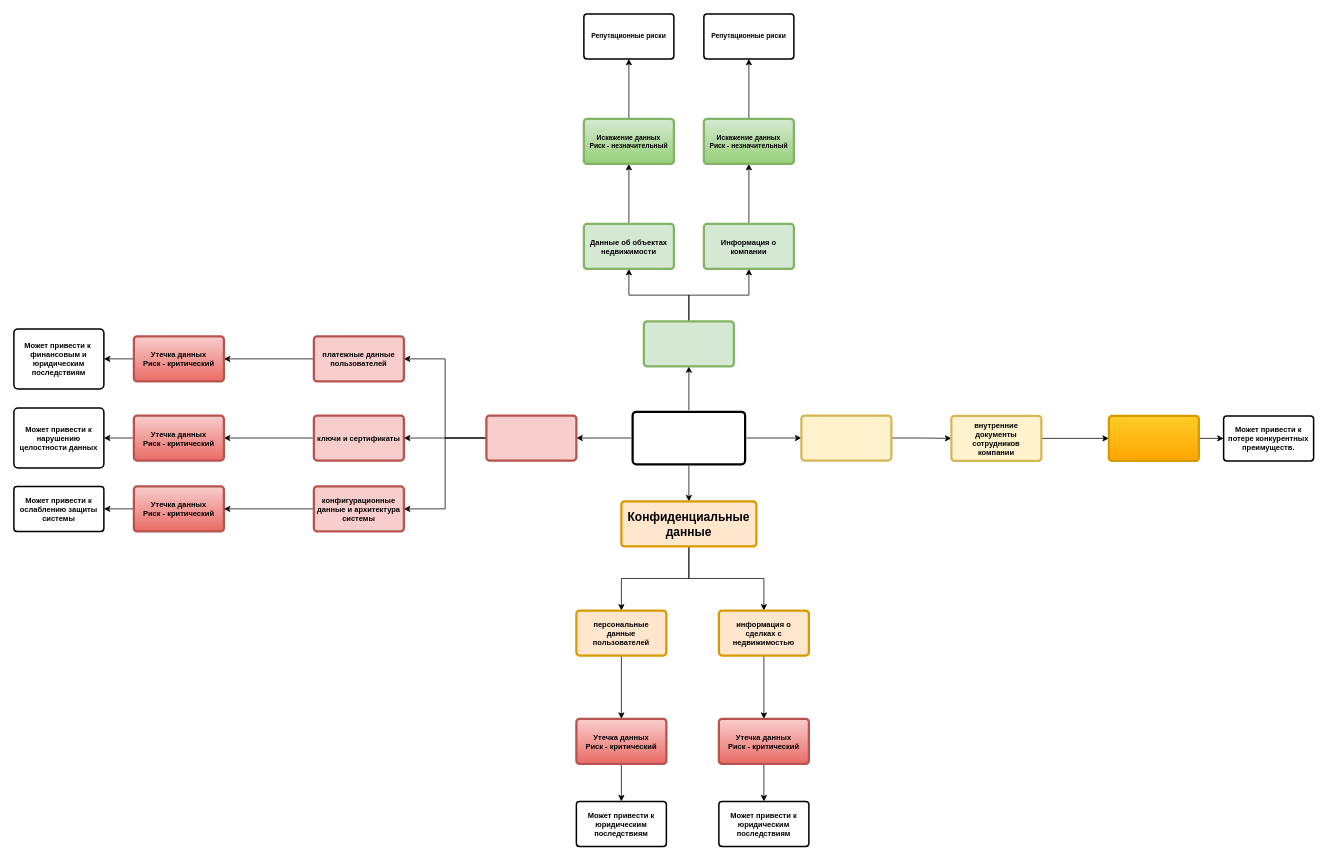
This 1327x860 diagram has some shape labels left out. Each missing label, with the centre of its shape:
"Безопасность данных" belongs at (x=688, y=437).
"Внутренние данные" belongs at (x=846, y=437).
"Публичные данные" belongs at (x=688, y=343).
"Секретные данные" belongs at (x=531, y=437).
"Утечка данных Риск - значительный" belongs at (x=1153, y=438).
